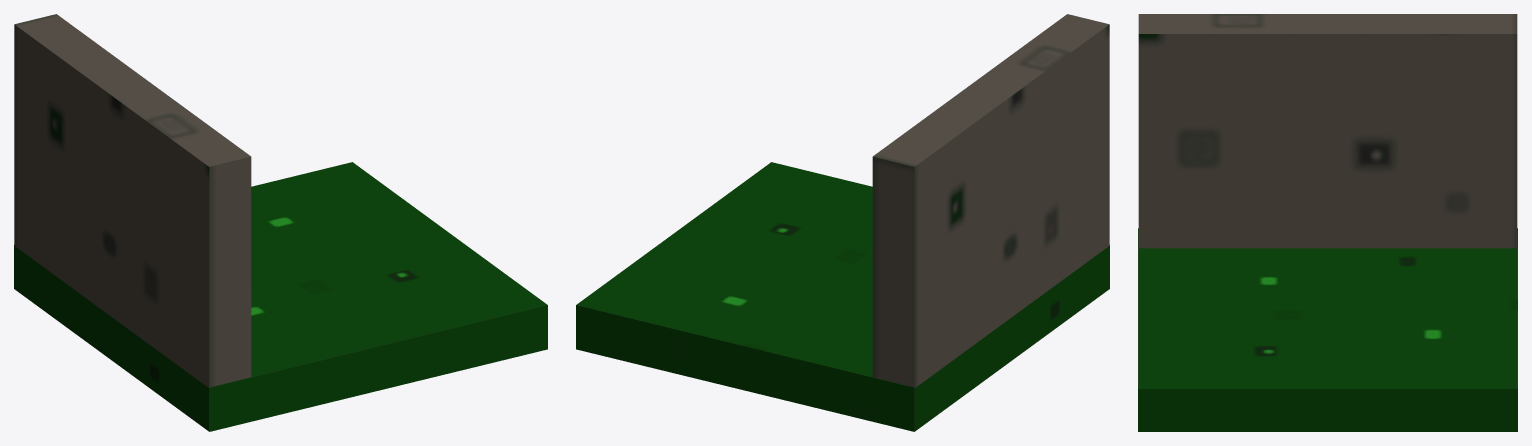
File: yard_4x4_with_wall_00.glb
The picture shows the model from 3 angles, left to right: view 1: azimuth 30°, elevation 25°; view 2: azimuth 150°, elevation 25°; view 3: azimuth 270°, elevation 25°; orthographic projection. The views are drawn at different scales.
Visible parts, largest first — view 1: yard_4x4_with_wall_00; view 2: yard_4x4_with_wall_00; view 3: yard_4x4_with_wall_00.
Part boxes in pixels (bbox=[...]): yard_4x4_with_wall_00: bbox=[14, 14, 547, 431]; yard_4x4_with_wall_00: bbox=[576, 14, 1109, 431]; yard_4x4_with_wall_00: bbox=[1138, 14, 1517, 431].
Size of what is drawn, in the model's own units: 4 by 2.99 by 4.
Materials: 1 (1 with a texture image).
